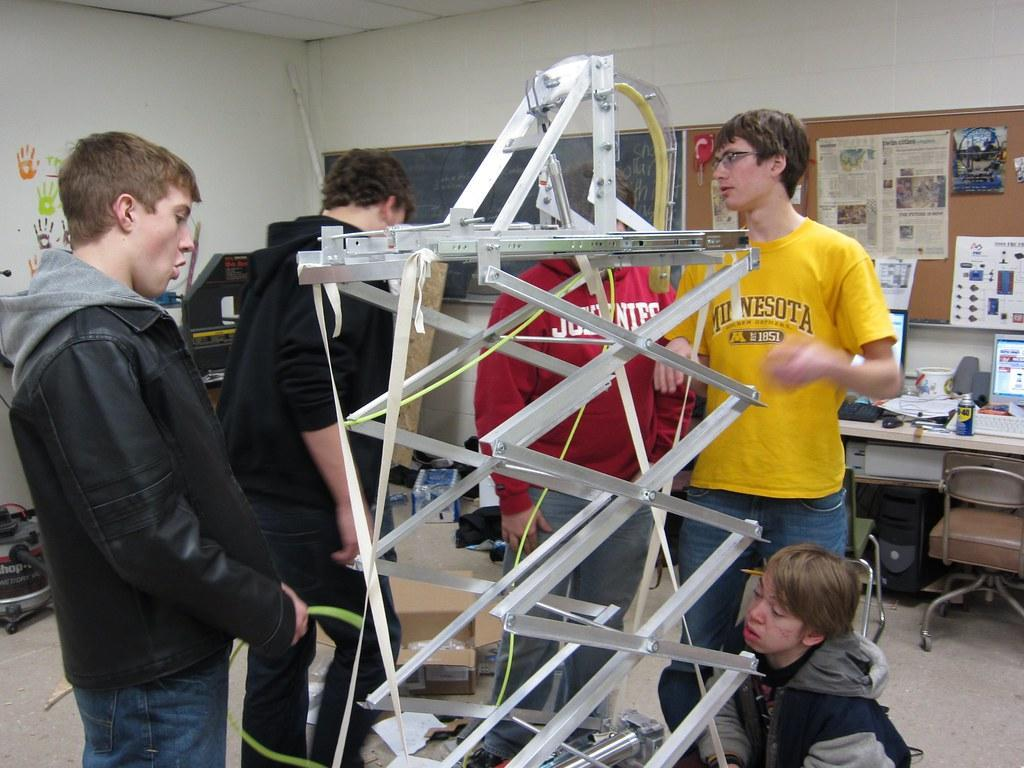robot: (297, 47, 775, 768)
